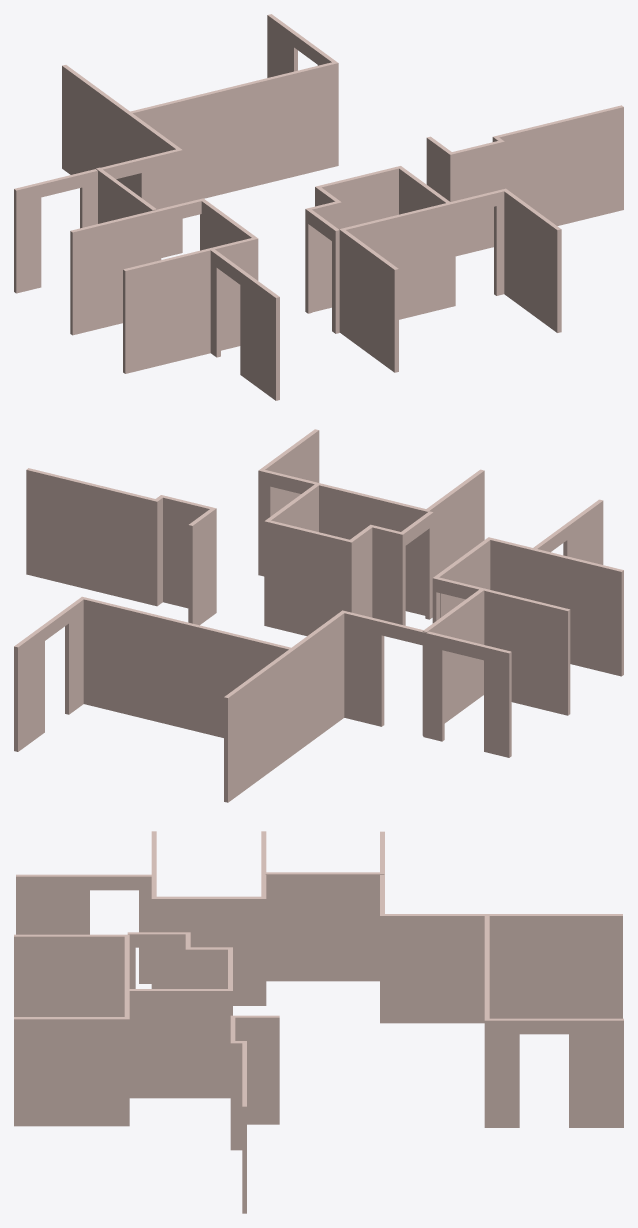
File: house4.fbx
3 renders of one model, top to bottom at view 1: azimuth 30°, elevation 25°; view 2: azimuth 150°, elevation 25°; view 3: azimuth 270°, elevation 25°, orthographic. The views are drawn at different scales.
Parts seen in each view (by area): view 1: Room.005, Room.003, Room.008, Room.007, Room.001, Room.006, Room.004, Room.002; view 2: Room.001, Room.008, Room.007, Room.003, Room.006, Room.005, Room.002, Room.004; view 3: Room.001, Room.005, Room.006, Room.002, Room.008, Room.003, Room.004, Room.007.
Boxes of the visible parts, bbox=[...] form: Room.005: bbox=[339, 188, 561, 372]; Room.003: bbox=[70, 198, 258, 373]; Room.008: bbox=[128, 14, 338, 203]; Room.007: bbox=[426, 105, 623, 256]; Room.001: bbox=[14, 65, 182, 293]; Room.006: bbox=[305, 166, 449, 333]; Room.004: bbox=[210, 249, 279, 400]; Room.002: bbox=[96, 167, 156, 223]; Room.001: bbox=[224, 610, 511, 802]; Room.008: bbox=[14, 596, 293, 751]; Room.007: bbox=[26, 468, 216, 625]; Room.003: bbox=[432, 537, 623, 715]; Room.006: bbox=[264, 484, 433, 635]; Room.005: bbox=[258, 429, 484, 615]; Room.002: bbox=[422, 588, 484, 735]; Room.004: bbox=[533, 499, 603, 564]; Room.001: bbox=[380, 831, 622, 1023]; Room.005: bbox=[14, 934, 129, 1126]; Room.006: bbox=[127, 932, 232, 1098]; Room.002: bbox=[265, 872, 384, 981]; Room.008: bbox=[484, 915, 623, 1127]; Room.003: bbox=[151, 831, 266, 1005]; Room.004: bbox=[16, 874, 151, 983]; Room.007: bbox=[230, 1015, 279, 1213].
Bounding box in the file's own units: 1323 × 242 × 1239.
